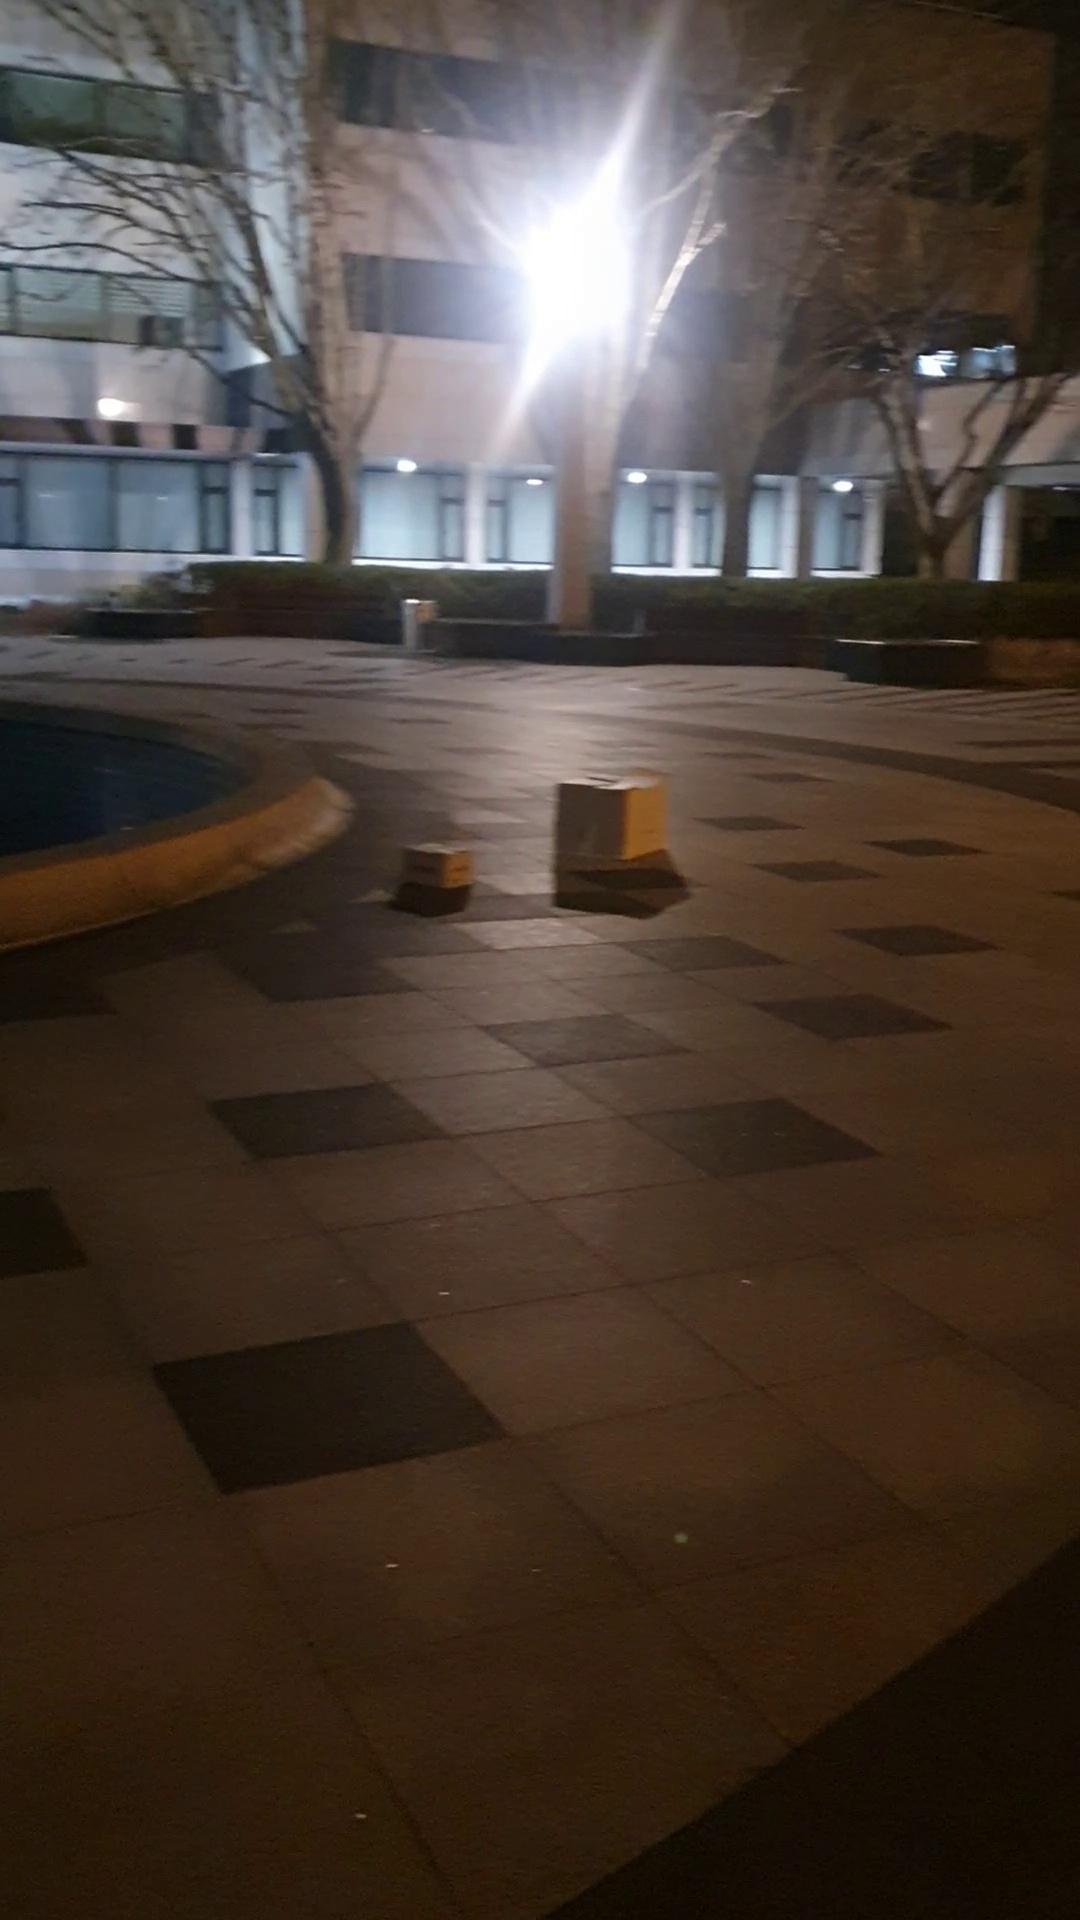Box: (549, 765, 669, 876), (396, 814, 483, 895)
